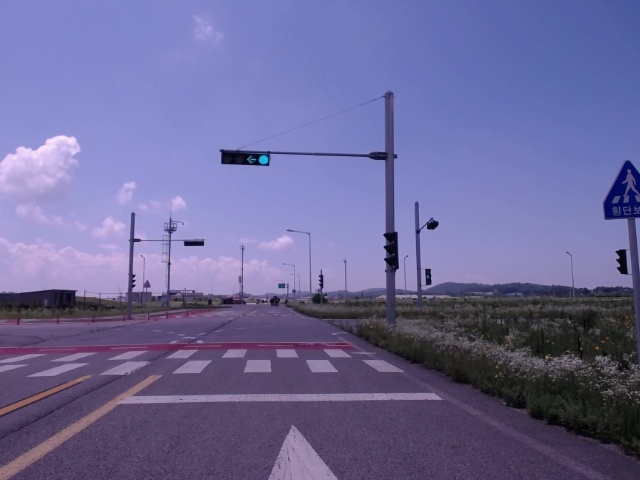all_green_4: (219, 149, 277, 166)
